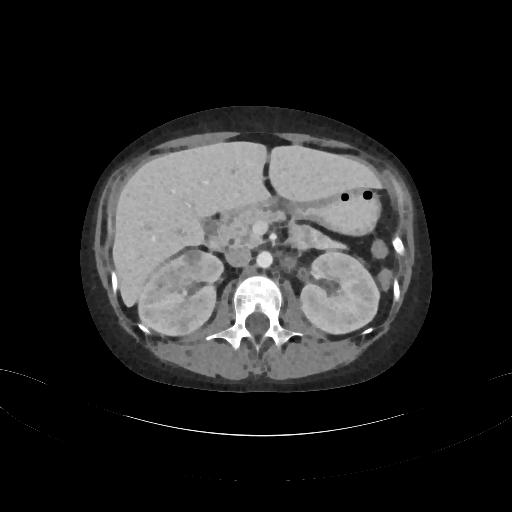Lesion: (181, 242, 203, 267)
